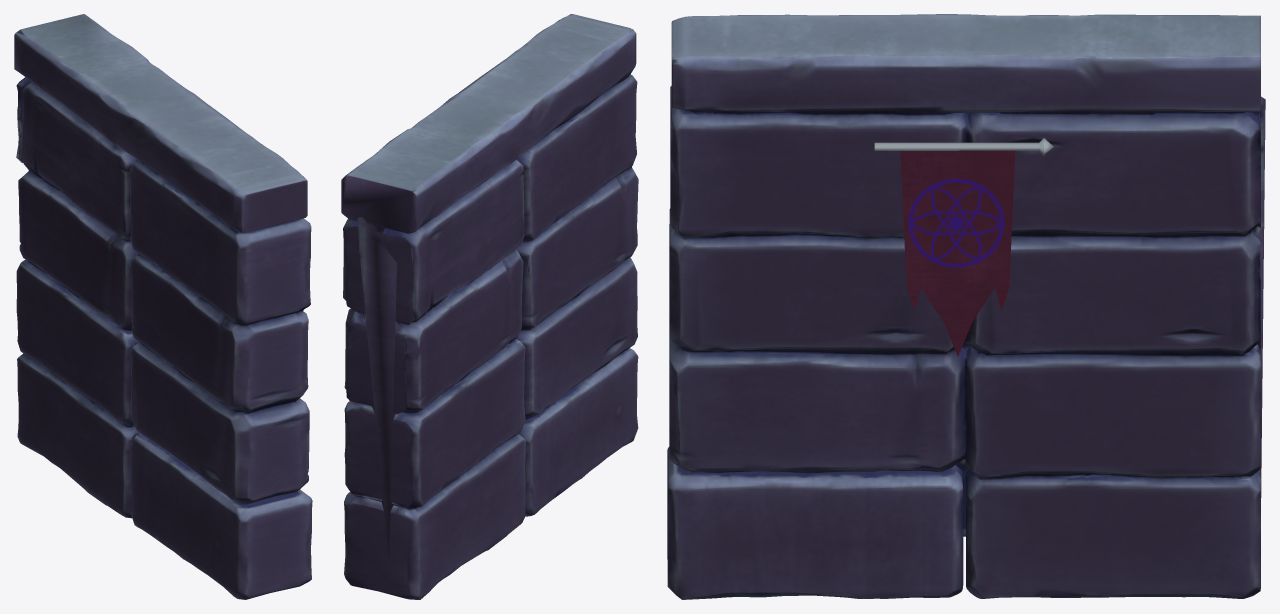
The model's file is WallBanner2.glb.
The picture shows the model from 3 angles, left to right: view 1: azimuth 30°, elevation 25°; view 2: azimuth 150°, elevation 25°; view 3: azimuth 270°, elevation 25°; orthographic projection. The views are drawn at different scales.
Visible parts, largest first — view 1: WallBanner2; view 2: WallBanner2; view 3: WallBanner2.
Boxes of the visible parts, x1,y1,x2,y2 form: WallBanner2: (14,14,312,599); WallBanner2: (341,14,638,599); WallBanner2: (667,14,1265,599).
Size of the model in its own units: 2.48 by 10 by 10.
Materials: 2 (2 with a texture image).
